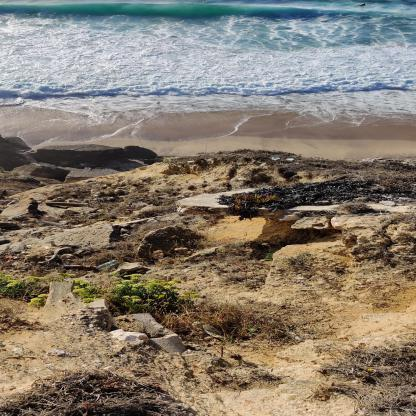cam: (65, 266, 95, 270)
metal: (273, 158, 282, 162), (287, 160, 298, 163)
plastik: (97, 261, 119, 271)
